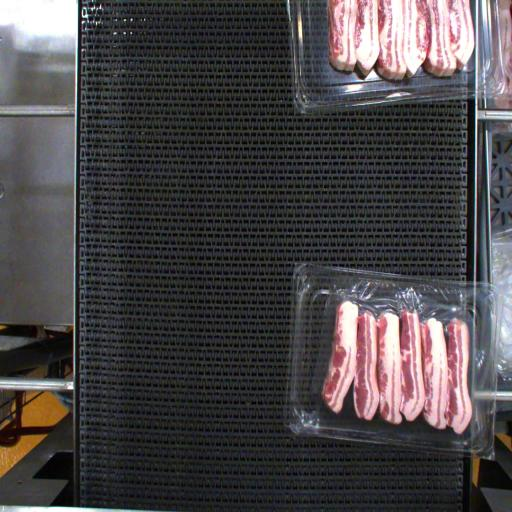unsealed: (299, 270, 496, 456)
